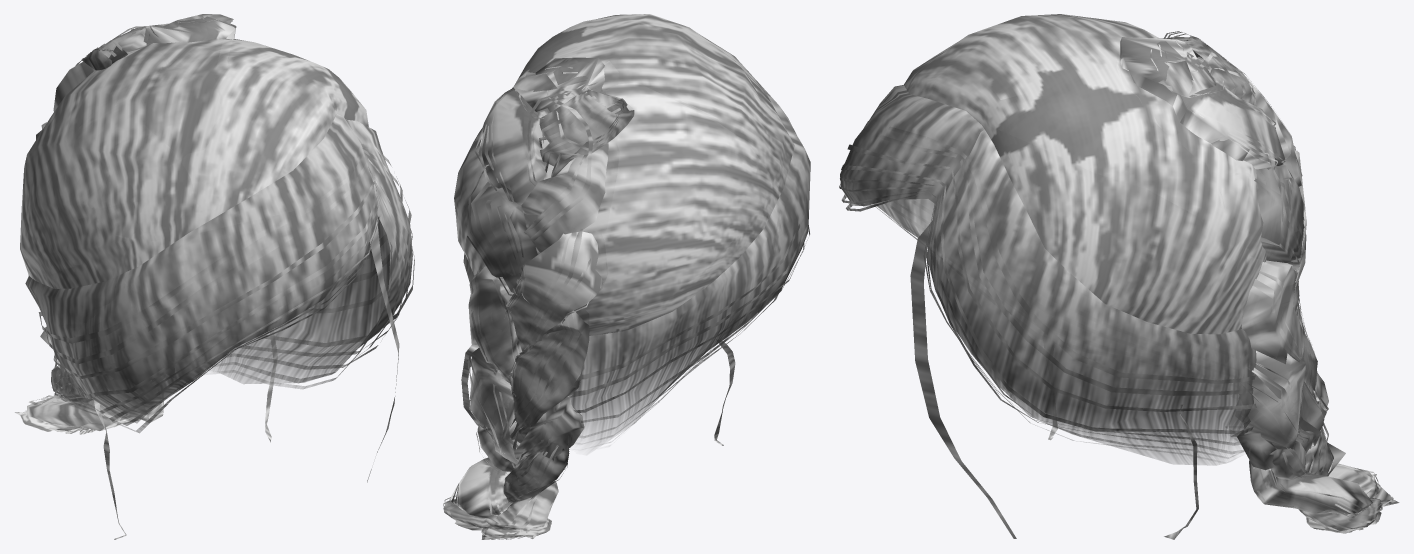
The model's file is daz_hair_unkempt_french_braid.glb.
The picture shows the model from 3 angles, left to right: view 1: azimuth 30°, elevation 25°; view 2: azimuth 150°, elevation 25°; view 3: azimuth 270°, elevation 25°; orthographic projection. The views are drawn at different scales.
Visible parts, largest first — view 1: daz_hair_unkempt_french_braid; view 2: daz_hair_unkempt_french_braid; view 3: daz_hair_unkempt_french_braid.
Boxes of the visible parts, x1,y1,x2,y2 form: daz_hair_unkempt_french_braid: [15, 14, 414, 539]; daz_hair_unkempt_french_braid: [443, 14, 810, 539]; daz_hair_unkempt_french_braid: [839, 14, 1399, 539].
Bounding box in the file's own units: 0.1828 × 0.2536 × 0.2708.
Materials: 1 (1 with a texture image).
